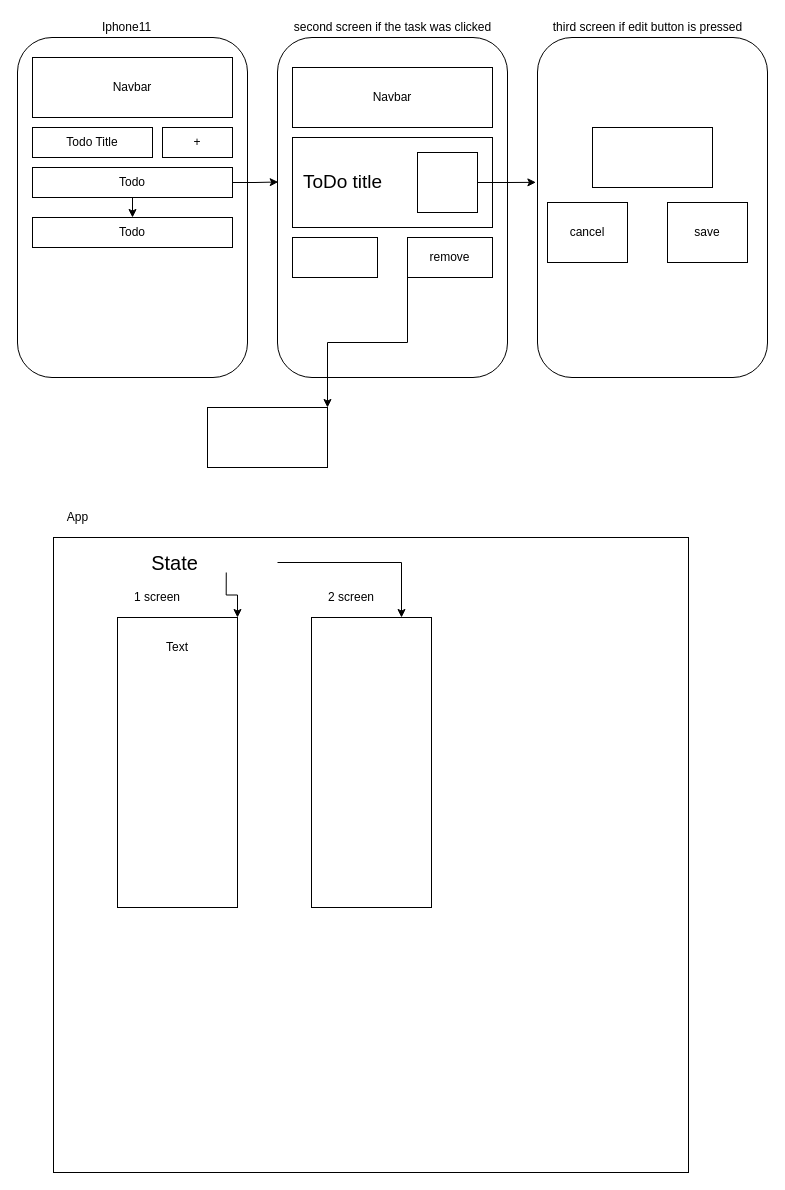
The diagram is 785 pixels wide and 1190 high, and some of its shapes have lost their labels. The centre of each missing label's shape, as x and y in pixels:
"are you sure ?" goes at pixel 267 437.
"back" goes at pixel 335 257.
"edit btn" goes at pixel 447 182.
"text input" goes at pixel 652 157.
